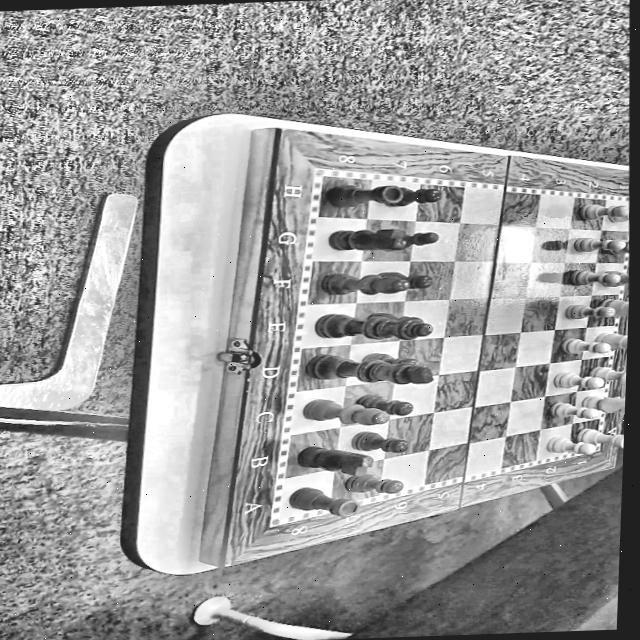chessboard: (278, 176, 629, 520)
